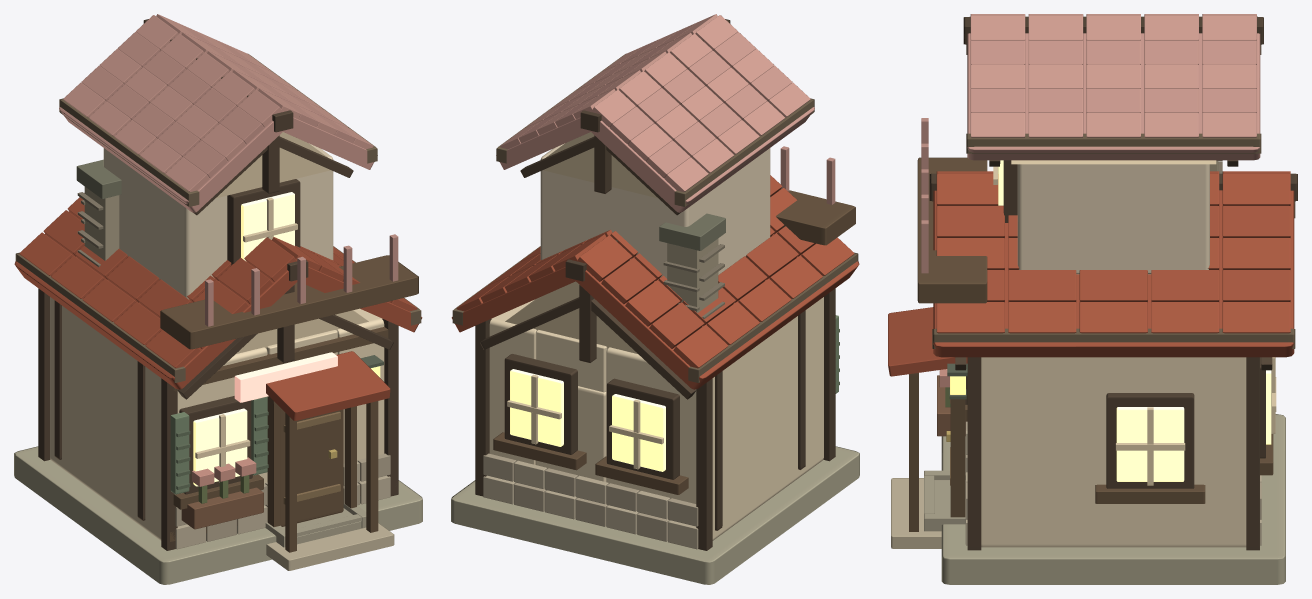
File: workshop-2-0.glb
3 renders of one model, left to right at view 1: azimuth 30°, elevation 25°; view 2: azimuth 150°, elevation 25°; view 3: azimuth 270°, elevation 25°, orthographic. The views are drawn at different scales.
Parts seen in each view (by area): view 1: workshop-0-2, door-hinge; view 2: workshop-0-2; view 3: workshop-0-2.
Boxes of the visible parts, x1,y1,x2,y2 form: workshop-0-2: (14,14,422,584); door-hinge: (280,407,343,526); workshop-0-2: (451,14,859,584); workshop-0-2: (888,14,1297,584).
Size of the model in its own units: 1.88 by 3 by 2.24.
